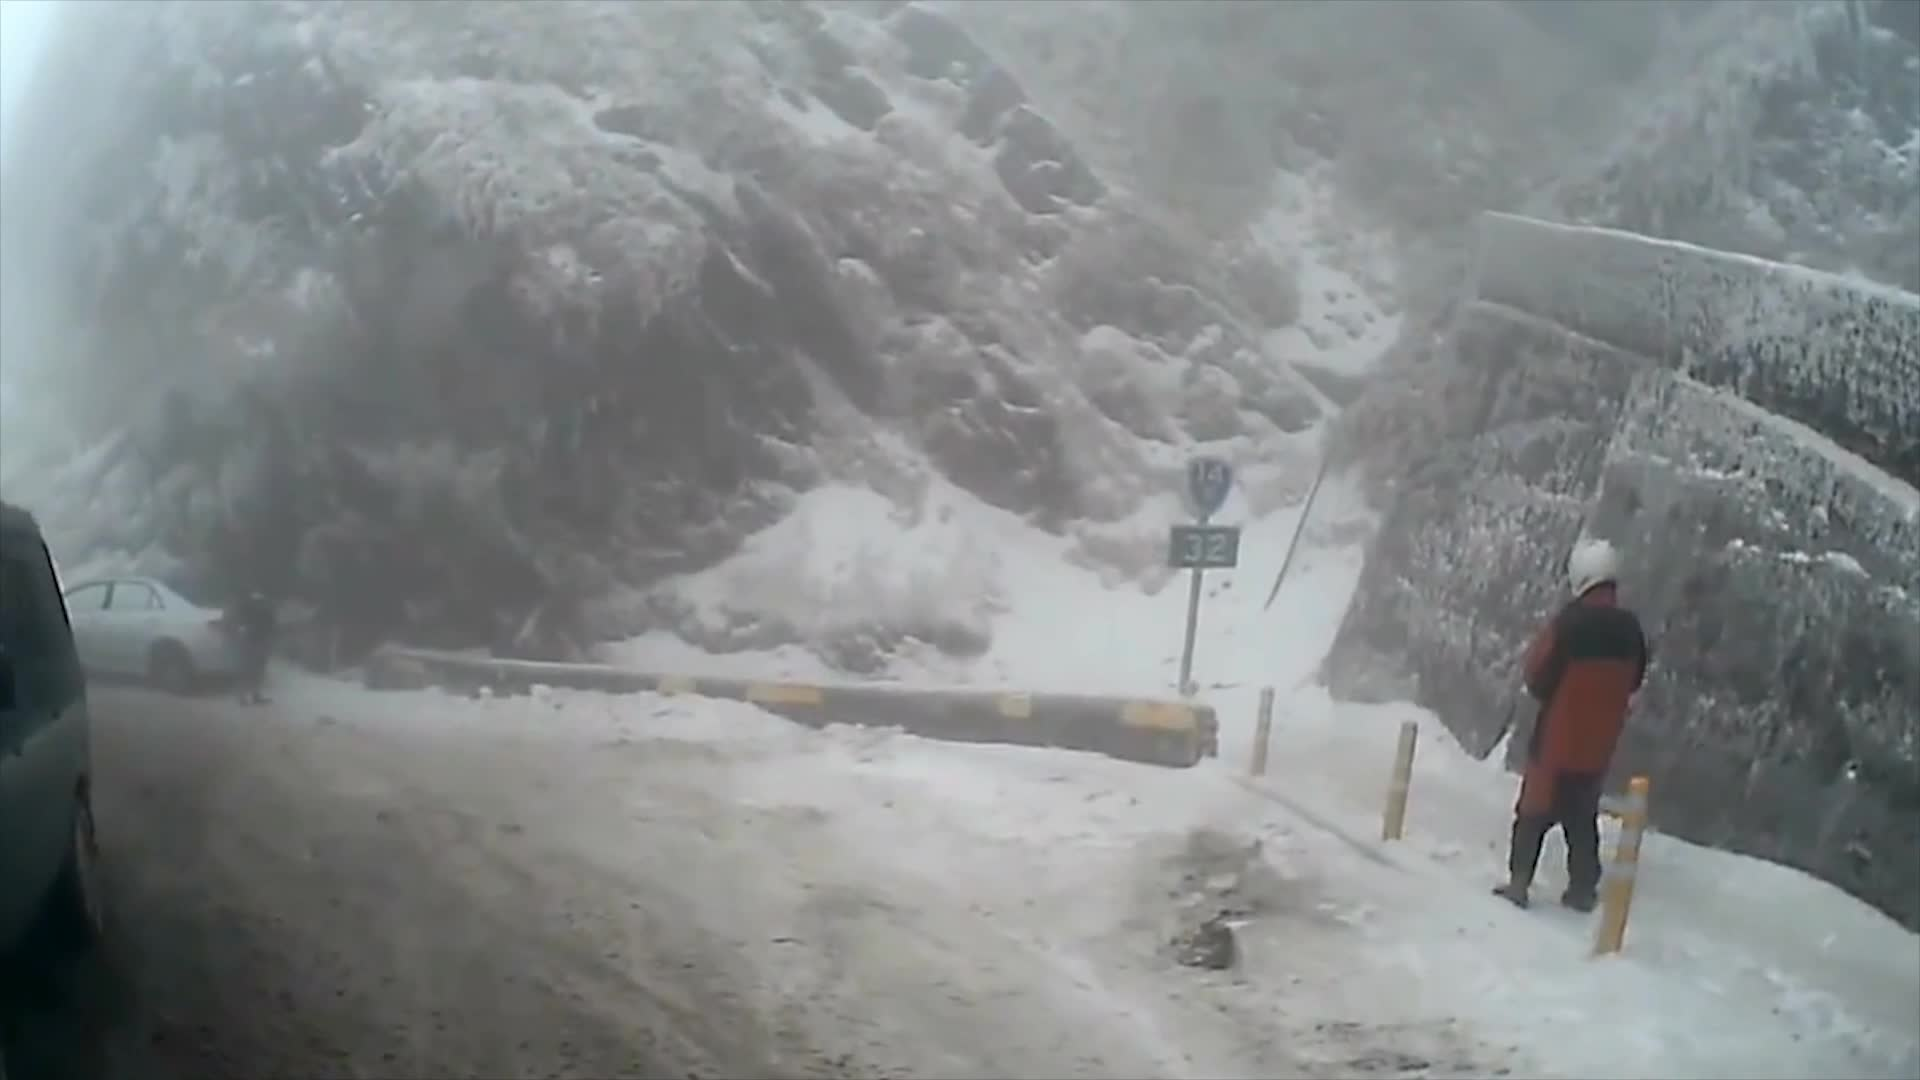pedestrian: (1492, 533, 1653, 913), (231, 580, 283, 710)
vehicle: (0, 501, 105, 1063), (0, 572, 250, 694)
